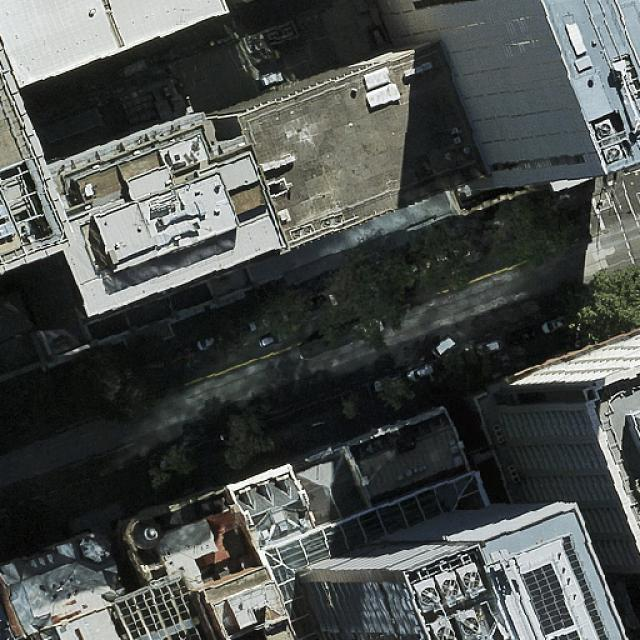Bike-Symbols: (597, 198, 610, 208)
